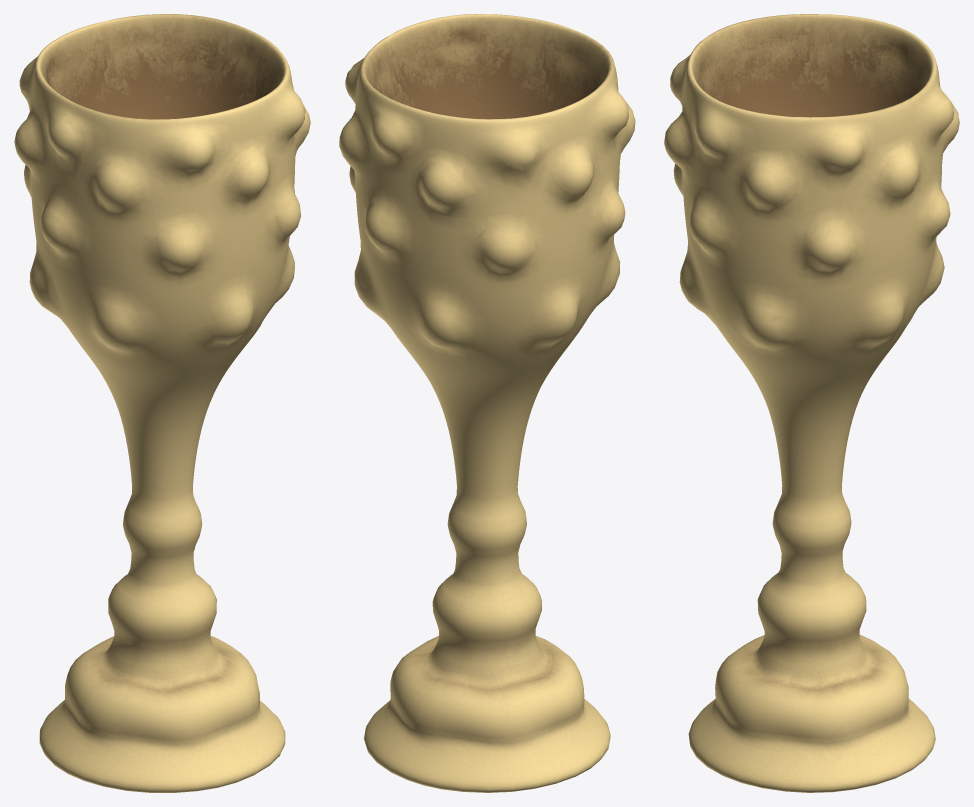
File: GOBLET_TEST.fbx
The picture shows the model from 3 angles, left to right: view 1: azimuth 30°, elevation 25°; view 2: azimuth 150°, elevation 25°; view 3: azimuth 270°, elevation 25°; orthographic projection.
Visible parts, largest first — view 1: GOBLET_sub; view 2: GOBLET_sub; view 3: GOBLET_sub.
Part boxes in pixels (box(x1,y1,x2,y2)): GOBLET_sub: box(14, 14, 310, 792); GOBLET_sub: box(339, 14, 635, 792); GOBLET_sub: box(664, 14, 959, 792).
Size of the model in its own units: 203 by 524 by 205.
1 material, 1 textured.
